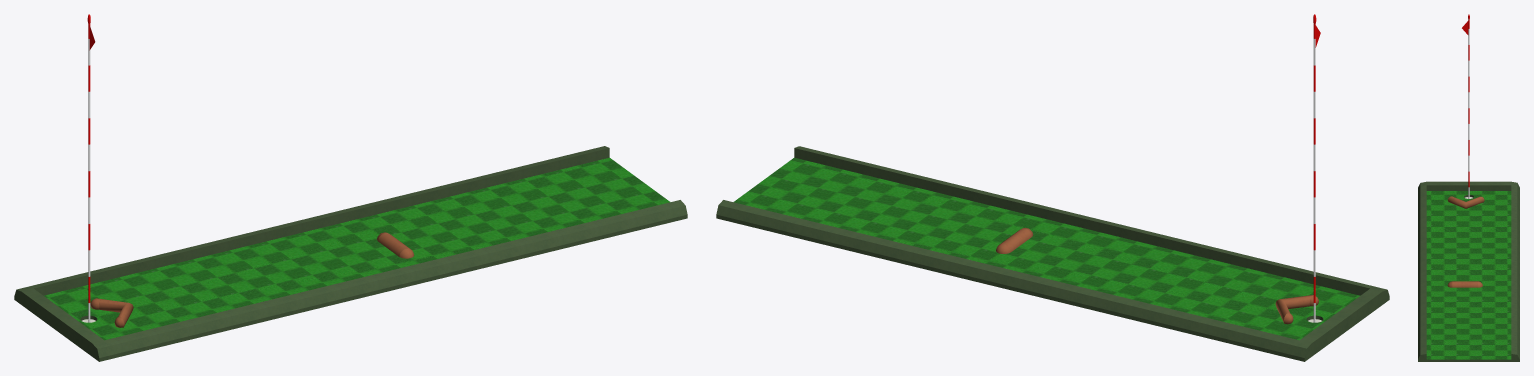
File: AlcoveCourse.glb
3 renders of one model, left to right at view 1: azimuth 30°, elevation 25°; view 2: azimuth 150°, elevation 25°; view 3: azimuth 270°, elevation 25°, orthographic. The views are drawn at different scales.
Visible parts, largest first — view 1: Box026, OilTank001, Cylinder020; view 2: Box026, OilTank001, Cylinder020; view 3: Box026, OilTank001, Cylinder020.
Boxes of the visible parts, x1,y1,x2,y2 form: Box026: (14,146,687,361); OilTank001: (90,232,414,327); Cylinder020: (87,14,95,322); Box026: (716,146,1389,361); OilTank001: (996,227,1318,324); Cylinder020: (1313,14,1320,322); Box026: (1418,181,1519,361); OilTank001: (1447,196,1484,287); Cylinder020: (1462,14,1469,198).
Size of the model in its own units: 16.26 by 8.35 by 4.06.
Materials: 6 (5 with a texture image).
